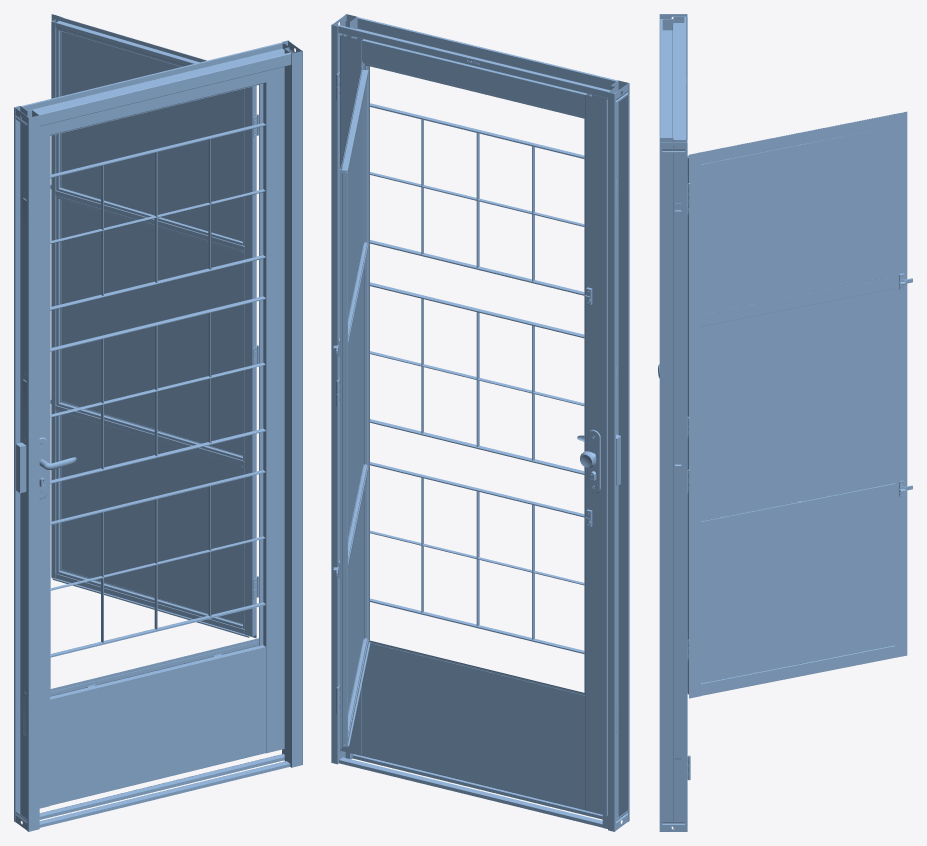
The model's file is newitem.gltf.
The picture shows the model from 3 angles, left to right: view 1: azimuth 30°, elevation 25°; view 2: azimuth 150°, elevation 25°; view 3: azimuth 270°, elevation 25°; orthographic projection. The views are drawn at different scales.
Visible parts, largest first — view 1: Layer_0, Layer_0_2, Layer_0_3, Layer_0_1, Object003, Object002, Object001; view 2: Layer_0, Layer_0_2, Layer_0_1, Layer_0_3, Object003, Object001; view 3: Layer_0, Layer_0_2, Layer_0_1, Layer_0_3.
Part boxes in pixels (bbox=[...]): Layer_0: bbox=[14, 14, 302, 831]; Layer_0_2: bbox=[61, 199, 242, 455]; Layer_0_3: bbox=[61, 414, 242, 623]; Layer_0_1: bbox=[61, 31, 242, 241]; Object003: bbox=[60, 31, 242, 624]; Object002: bbox=[15, 191, 26, 742]; Object001: bbox=[39, 437, 76, 499]; Layer_0: bbox=[331, 14, 629, 831]; Layer_0_2: bbox=[348, 272, 363, 537]; Layer_0_1: bbox=[348, 99, 363, 318]; Layer_0_3: bbox=[348, 494, 363, 712]; Object003: bbox=[348, 95, 364, 715]; Object001: bbox=[577, 429, 600, 493]; Layer_0: bbox=[659, 14, 912, 831]; Layer_0_2: bbox=[701, 288, 895, 521]; Layer_0_1: bbox=[701, 126, 895, 314]; Layer_0_3: bbox=[701, 495, 895, 683].
Size of the model in its own units: 87.11 by 217 by 72.59.
